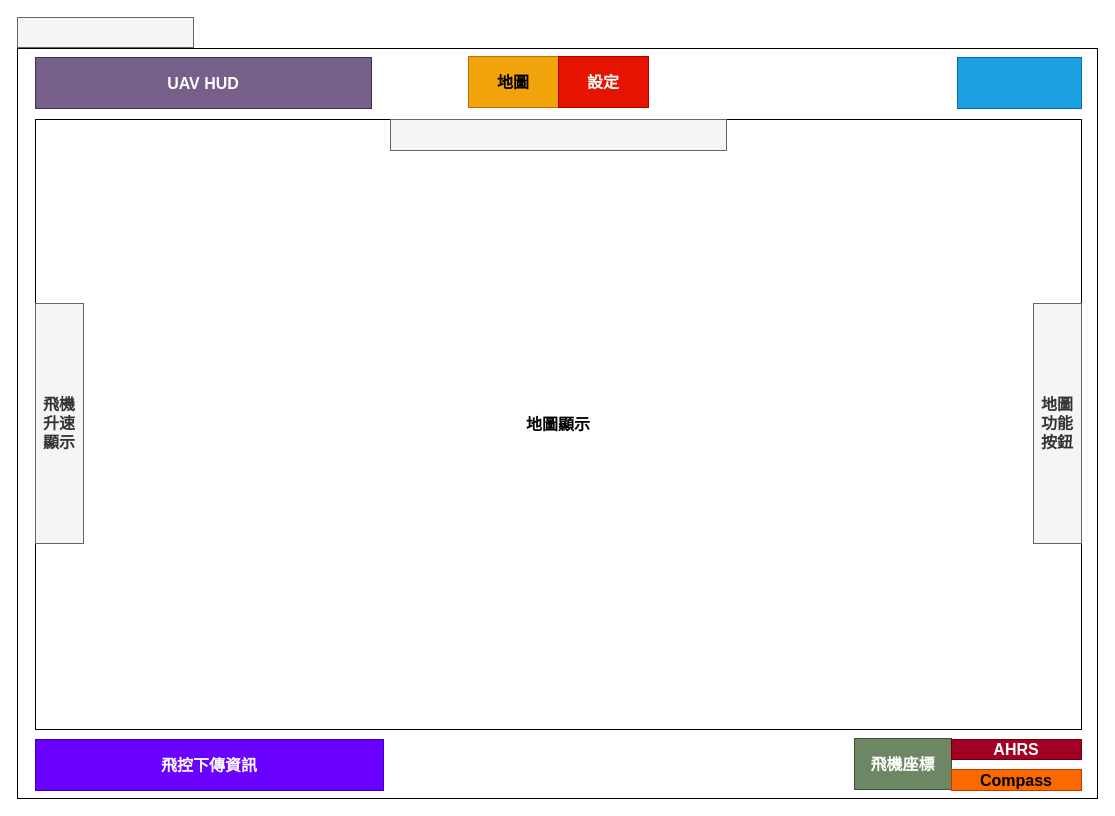
This 1115x816 diagram has some shape labels left out. The shapes that lost their labels are listed below. From the top down, each one's centre as x and y in pixels, then its label:
At point 105,32: "Cat Flight Open Source Ver.".
At point 1019,82: "選單按鈕".
At point 558,134: "飛機頭像顯示".
